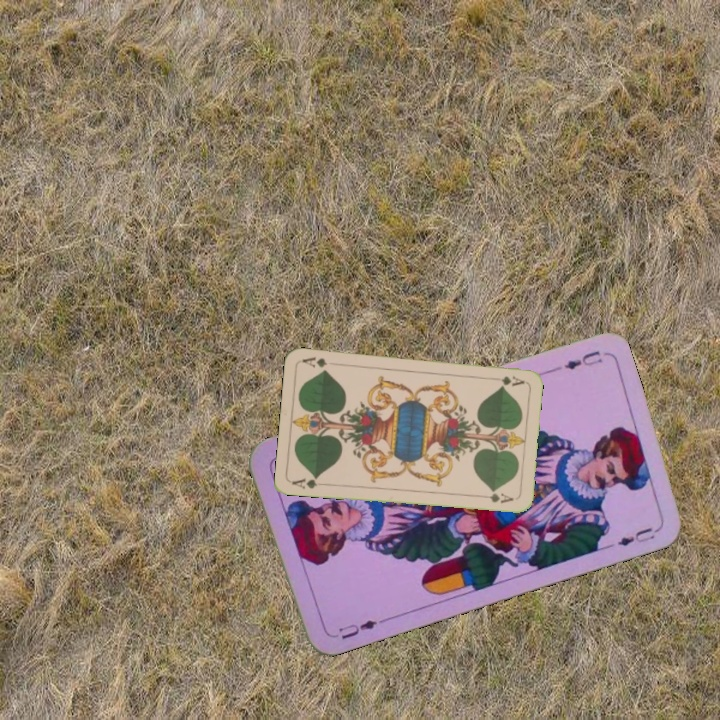EU: (329, 615, 380, 642), (560, 346, 605, 372)
GA: (487, 372, 527, 388), (289, 473, 320, 492)
